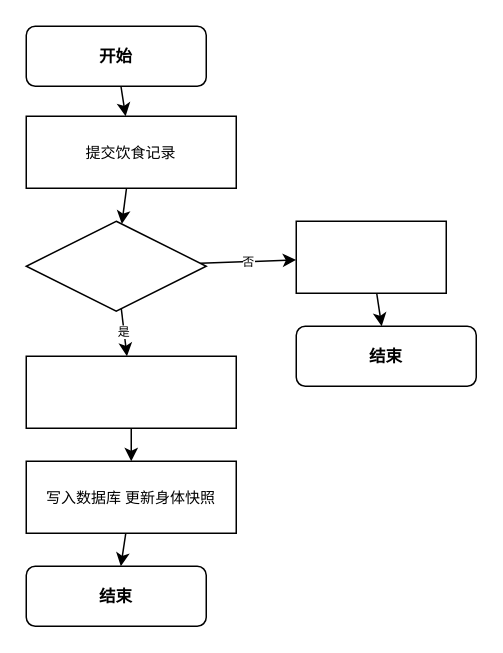
This 503x653 diagram has some shape labels left out. The centre of each missing label's shape, as x and y in pixels:
"参数校验?" belongs at [115,265].
"查询食物营养 计算摄入量" belongs at [130,391].
"返回错误" belongs at [370,256].
